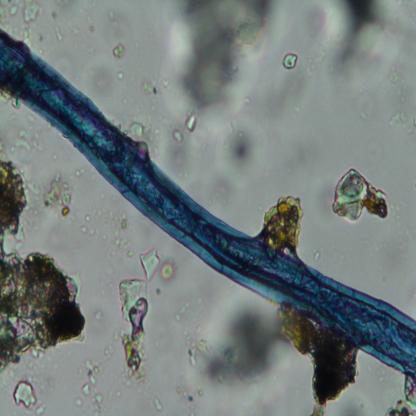Background material: (0, 158, 87, 372), (178, 0, 276, 117), (280, 314, 361, 407), (205, 310, 289, 388), (320, 0, 396, 83), (113, 276, 150, 381), (332, 167, 390, 226), (80, 202, 136, 255), (169, 300, 208, 376), (262, 193, 304, 253), (227, 122, 264, 186), (81, 62, 122, 104), (161, 139, 201, 179), (77, 355, 105, 412), (43, 170, 72, 221), (332, 385, 376, 416), (0, 0, 42, 32), (137, 250, 176, 284), (385, 373, 415, 416), (14, 124, 44, 158), (138, 80, 168, 112), (168, 115, 196, 144), (95, 261, 116, 299), (14, 378, 38, 408), (172, 382, 200, 405), (280, 46, 300, 75), (387, 110, 412, 131), (129, 120, 154, 141), (49, 1, 70, 25), (49, 27, 65, 48), (111, 42, 127, 61), (104, 8, 118, 23), (153, 395, 164, 412), (23, 109, 38, 121), (84, 16, 95, 32), (34, 402, 47, 414), (74, 166, 85, 180), (93, 310, 106, 321), (312, 249, 322, 261)
Cotton: (0, 30, 416, 381)
